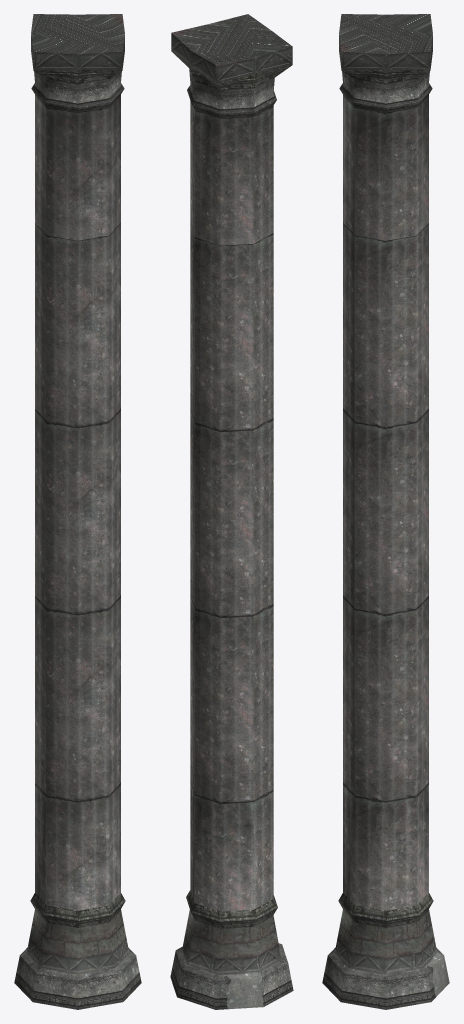
The model's file is columnbig_lod.fbx.
3 renders of one model, left to right at view 1: azimuth 90°, elevation 25°; view 2: azimuth 210°, elevation 25°; view 3: azimuth 270°, elevation 25°, orthographic.
Parts seen in each view (by area): view 1: Mesh Object; view 2: Mesh Object; view 3: Mesh Object.
Part boxes in pixels (x1,y1,x2,y2): Mesh Object: (14, 14, 141, 1009); Mesh Object: (170, 14, 293, 1009); Mesh Object: (322, 14, 449, 1009).
Bounding box in the file's own units: 1.48 × 12.19 × 1.48.
